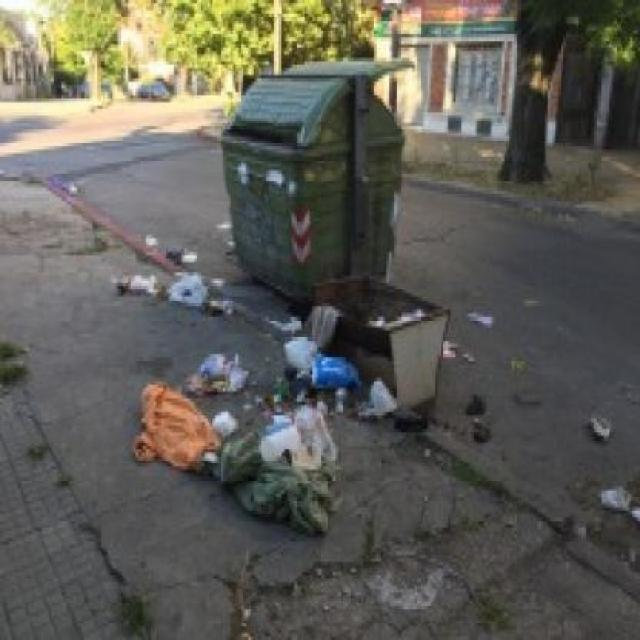garbage: (136, 351, 336, 535), (105, 235, 230, 316), (272, 309, 356, 394), (579, 399, 615, 444)
